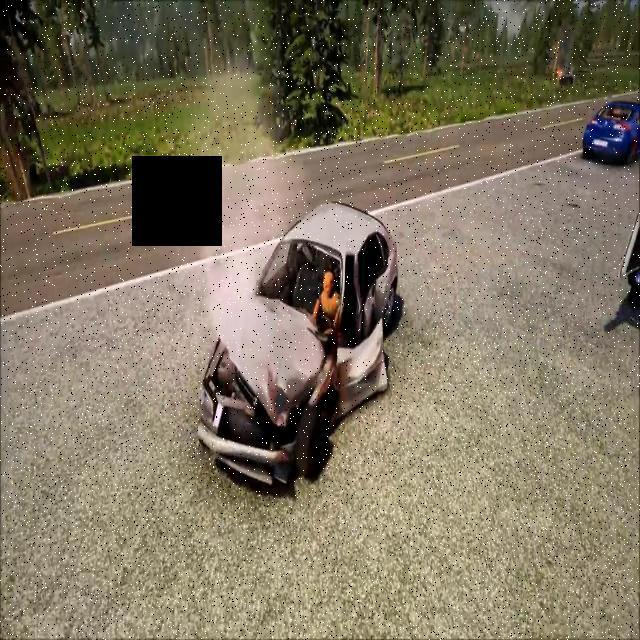severe: (194, 196, 404, 502)
